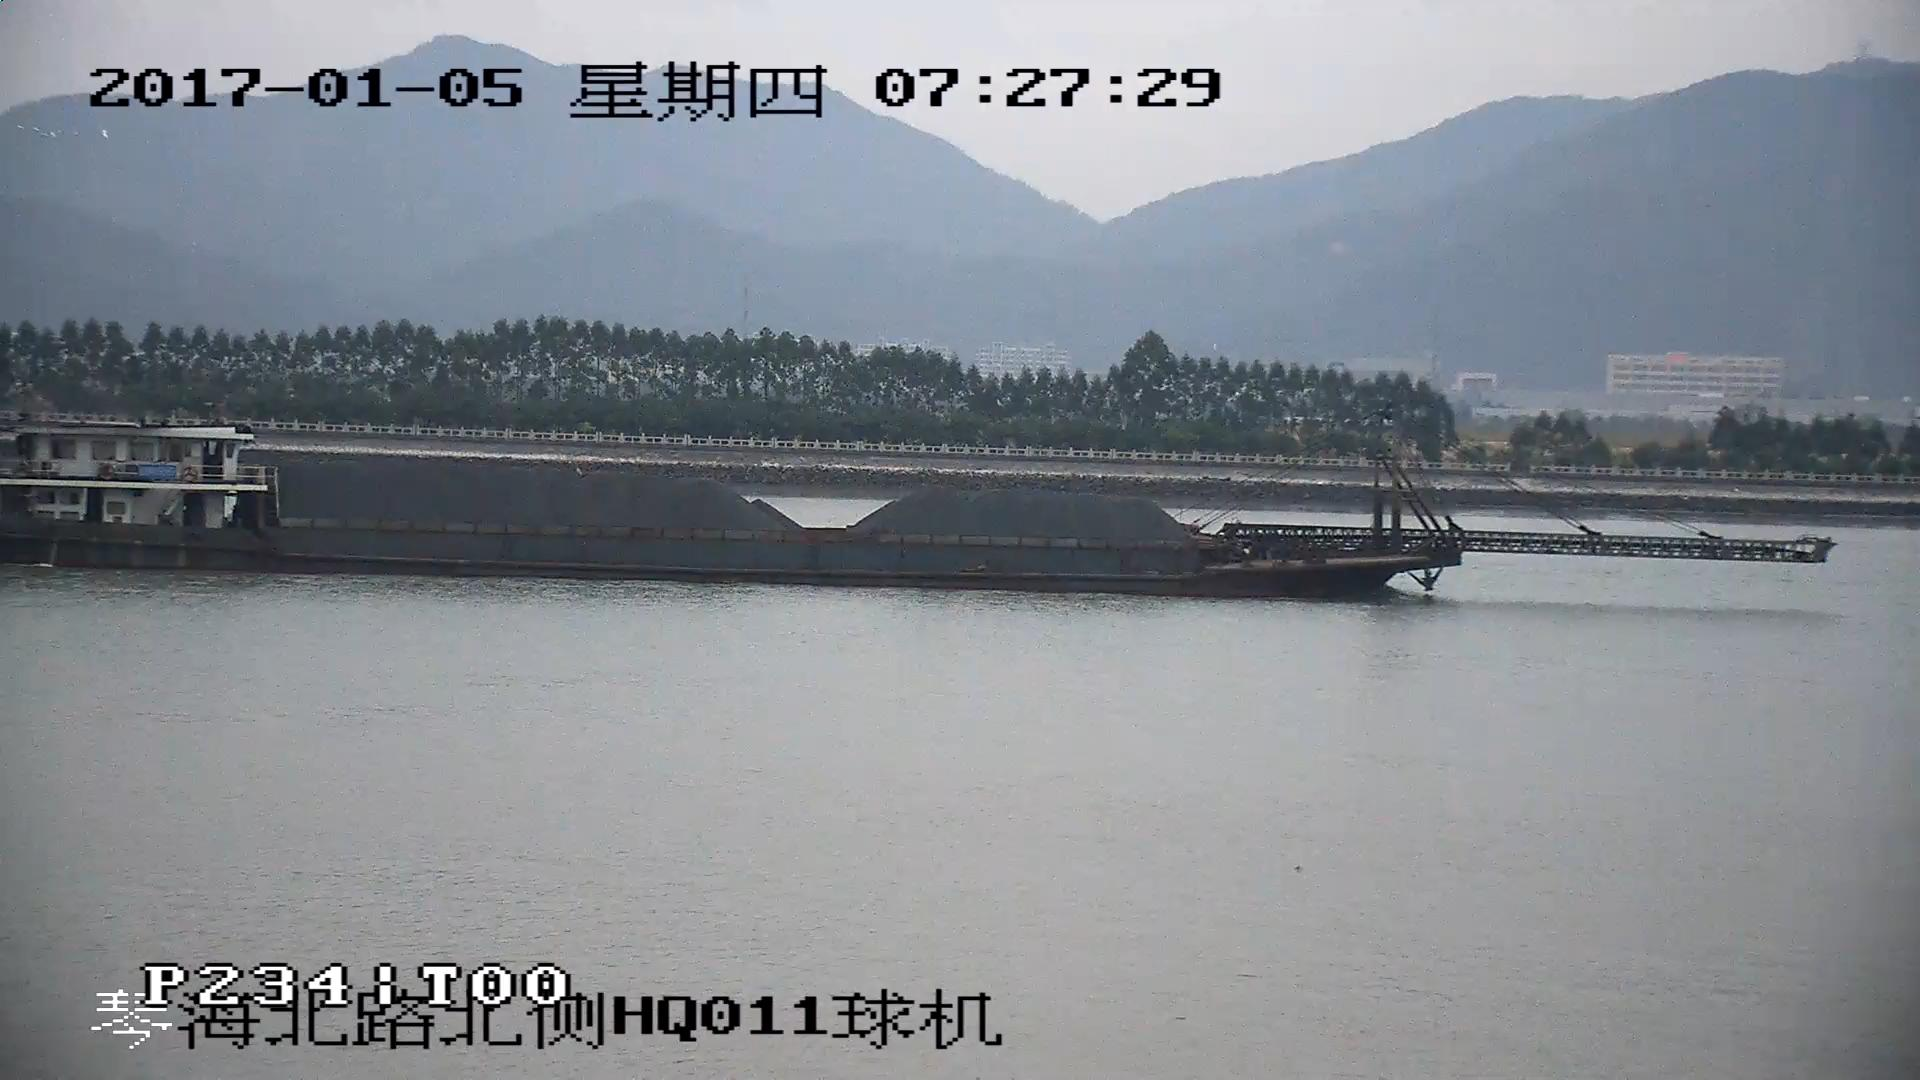ore carrier: (1, 417, 1828, 594)
